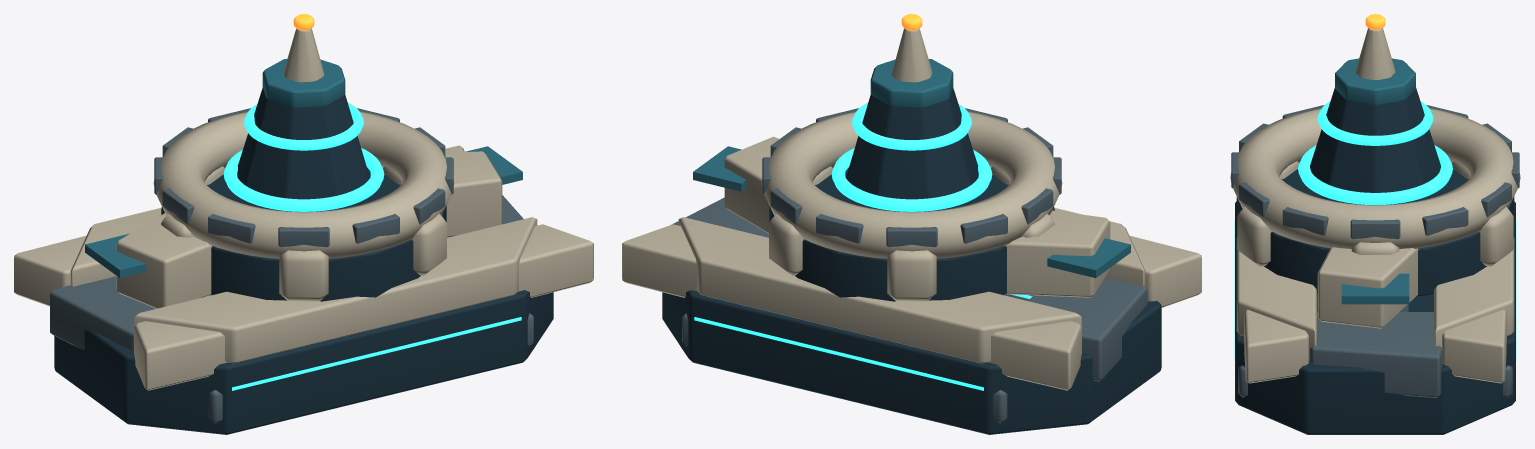
The model's file is auto_explore.glb.
3 renders of one model, left to right at view 1: azimuth 30°, elevation 25°; view 2: azimuth 150°, elevation 25°; view 3: azimuth 270°, elevation 25°, orthographic. The views are drawn at different scales.
Parts seen in each view (by area): view 1: Integrated tapered pressure socket, Common flared primary load bank, Habitat upper pressure collar, Eight-sided raised command citadel, Closed annular lower bearing, Swept habitat wing, Four flared armored spine transitions, Visible heavy socket-to-ring shear key, Four flared armored spine transitions.002, Swept habitat wing.001, Four flared armored spine transitions.001, Inboard turquoise bearing (+15 smaller); view 2: Integrated tapered pressure socket, Common flared primary load bank.001, Habitat upper pressure collar, Eight-sided raised command citadel, Closed annular lower bearing, Swept habitat wing, Four flared armored spine transitions.001, Visible heavy socket-to-ring shear key, Four flared armored spine transitions.003, Four flared armored spine transitions, Inboard turquoise bearing, Swept habitat wing.001 (+16 smaller); view 3: Habitat upper pressure collar, Integrated tapered pressure socket, Eight-sided raised command citadel, Visible heavy socket-to-ring shear key.001, Closed annular lower bearing, Swept habitat wing.001, Common flared primary load bank, Common flared primary load bank.001, Four flared armored spine transitions.002, Four flared armored spine transitions.003, Inboard turquoise bearing, Command dark glass crown (+11 smaller).
Boxes of the visible parts, x1,y1,x2,y2 form: Integrated tapered pressure socket: (54,290,553,434); Common flared primary load bank: (134,217,537,363); Habitat upper pressure collar: (153,111,454,258); Eight-sided raised command citadel: (237,87,369,199); Closed annular lower bearing: (161,167,446,301); Swept habitat wing: (116,213,212,308); Four flared armored spine transitions: (134,321,227,390); Visible heavy socket-to-ring shear key: (50,276,156,350); Four flared armored spine transitions.002: (518,224,593,297); Swept habitat wing.001: (445,151,502,237); Four flared armored spine transitions.001: (14,235,86,306); Inboard turquoise bearing: (223,148,384,211); Integrated tapered pressure socket: (662,290,1161,434); Common flared primary load bank.001: (678,217,1081,363); Habitat upper pressure collar: (761,111,1062,258); Eight-sided raised command citadel: (846,87,978,199); Closed annular lower bearing: (769,167,1054,301); Swept habitat wing: (1005,210,1110,297); Four flared armored spine transitions.001: (988,321,1081,390); Visible heavy socket-to-ring shear key: (1027,277,1147,381); Four flared armored spine transitions.003: (622,224,697,297); Four flared armored spine transitions: (1129,235,1201,307); Inboard turquoise bearing: (831,148,992,211); Swept habitat wing.001: (724,136,779,233); Habitat upper pressure collar: (1230,108,1520,248); Integrated tapered pressure socket: (1235,201,1515,434); Eight-sided raised command citadel: (1310,88,1440,192); Visible heavy socket-to-ring shear key.001: (1309,312,1442,397); Closed annular lower bearing: (1236,169,1514,296); Swept habitat wing.001: (1317,247,1418,328); Common flared primary load bank: (1236,237,1316,359); Common flared primary load bank.001: (1434,237,1514,346); Four flared armored spine transitions.002: (1244,310,1308,383); Four flared armored spine transitions.003: (1442,310,1506,383); Inboard turquoise bearing: (1298,145,1452,204); Command dark glass crown: (1335,58,1415,104).
Bounding box in the file's own units: 3.24 × 2.28 × 1.88.
